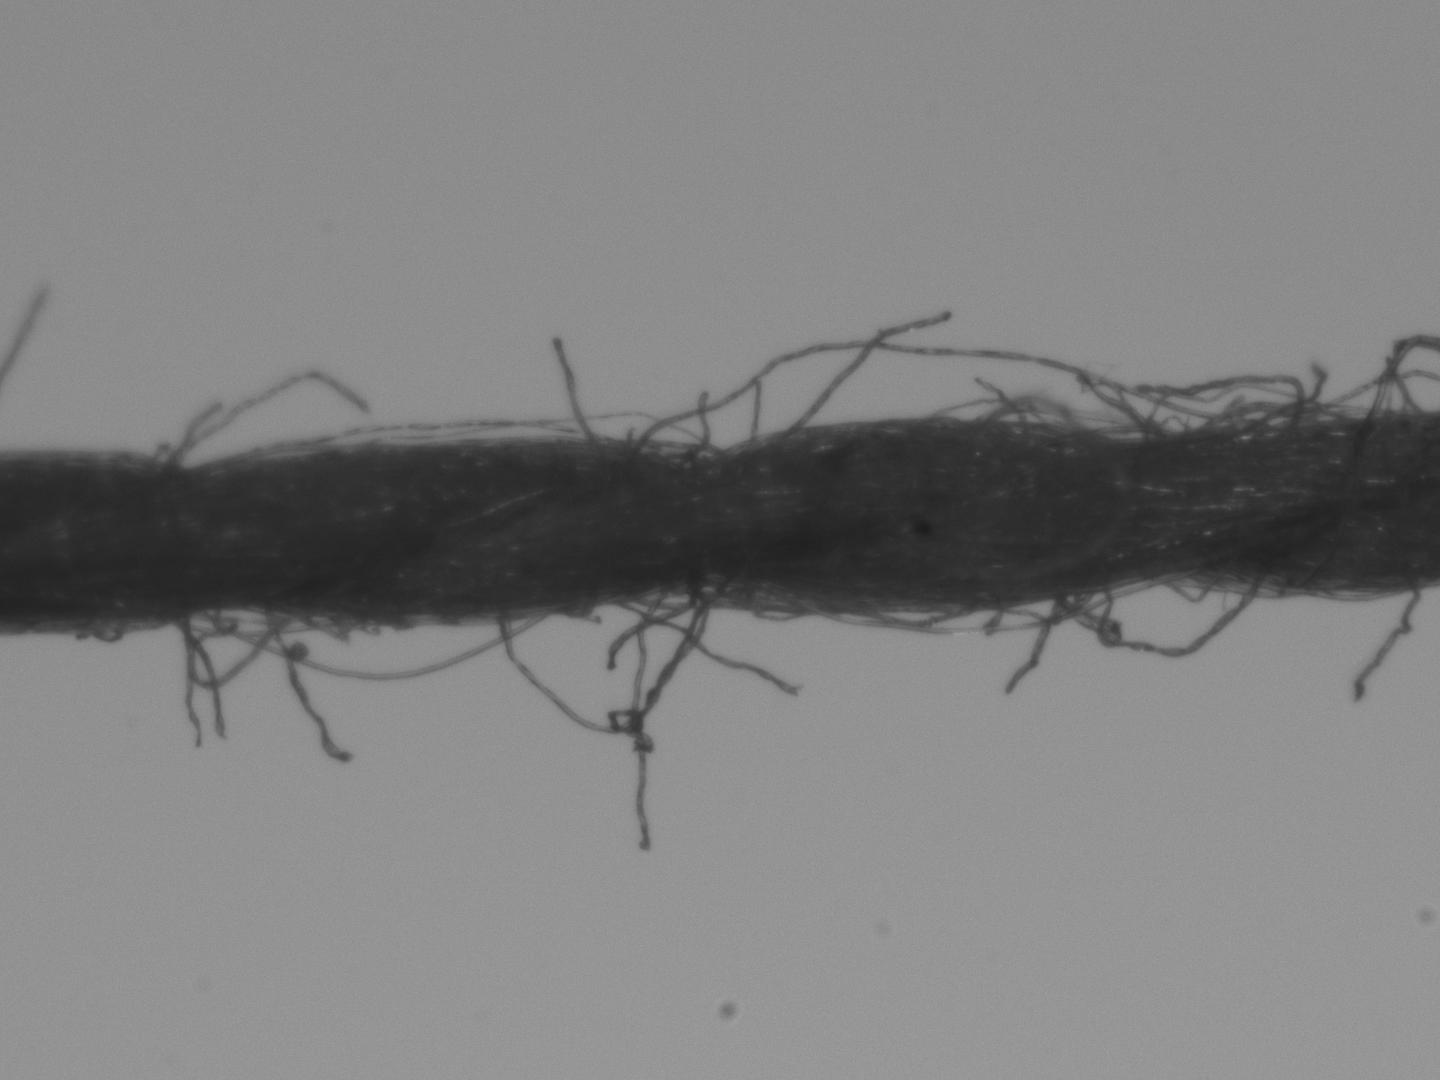loop_fiber: (780, 567, 1184, 639), (204, 611, 551, 681), (230, 417, 619, 459), (1056, 580, 1248, 653), (1197, 398, 1340, 436), (621, 437, 727, 465)
protruding_fiber: (779, 307, 951, 438), (266, 617, 350, 769), (611, 574, 700, 669), (1355, 590, 1416, 694), (550, 336, 591, 447), (184, 609, 200, 745)
